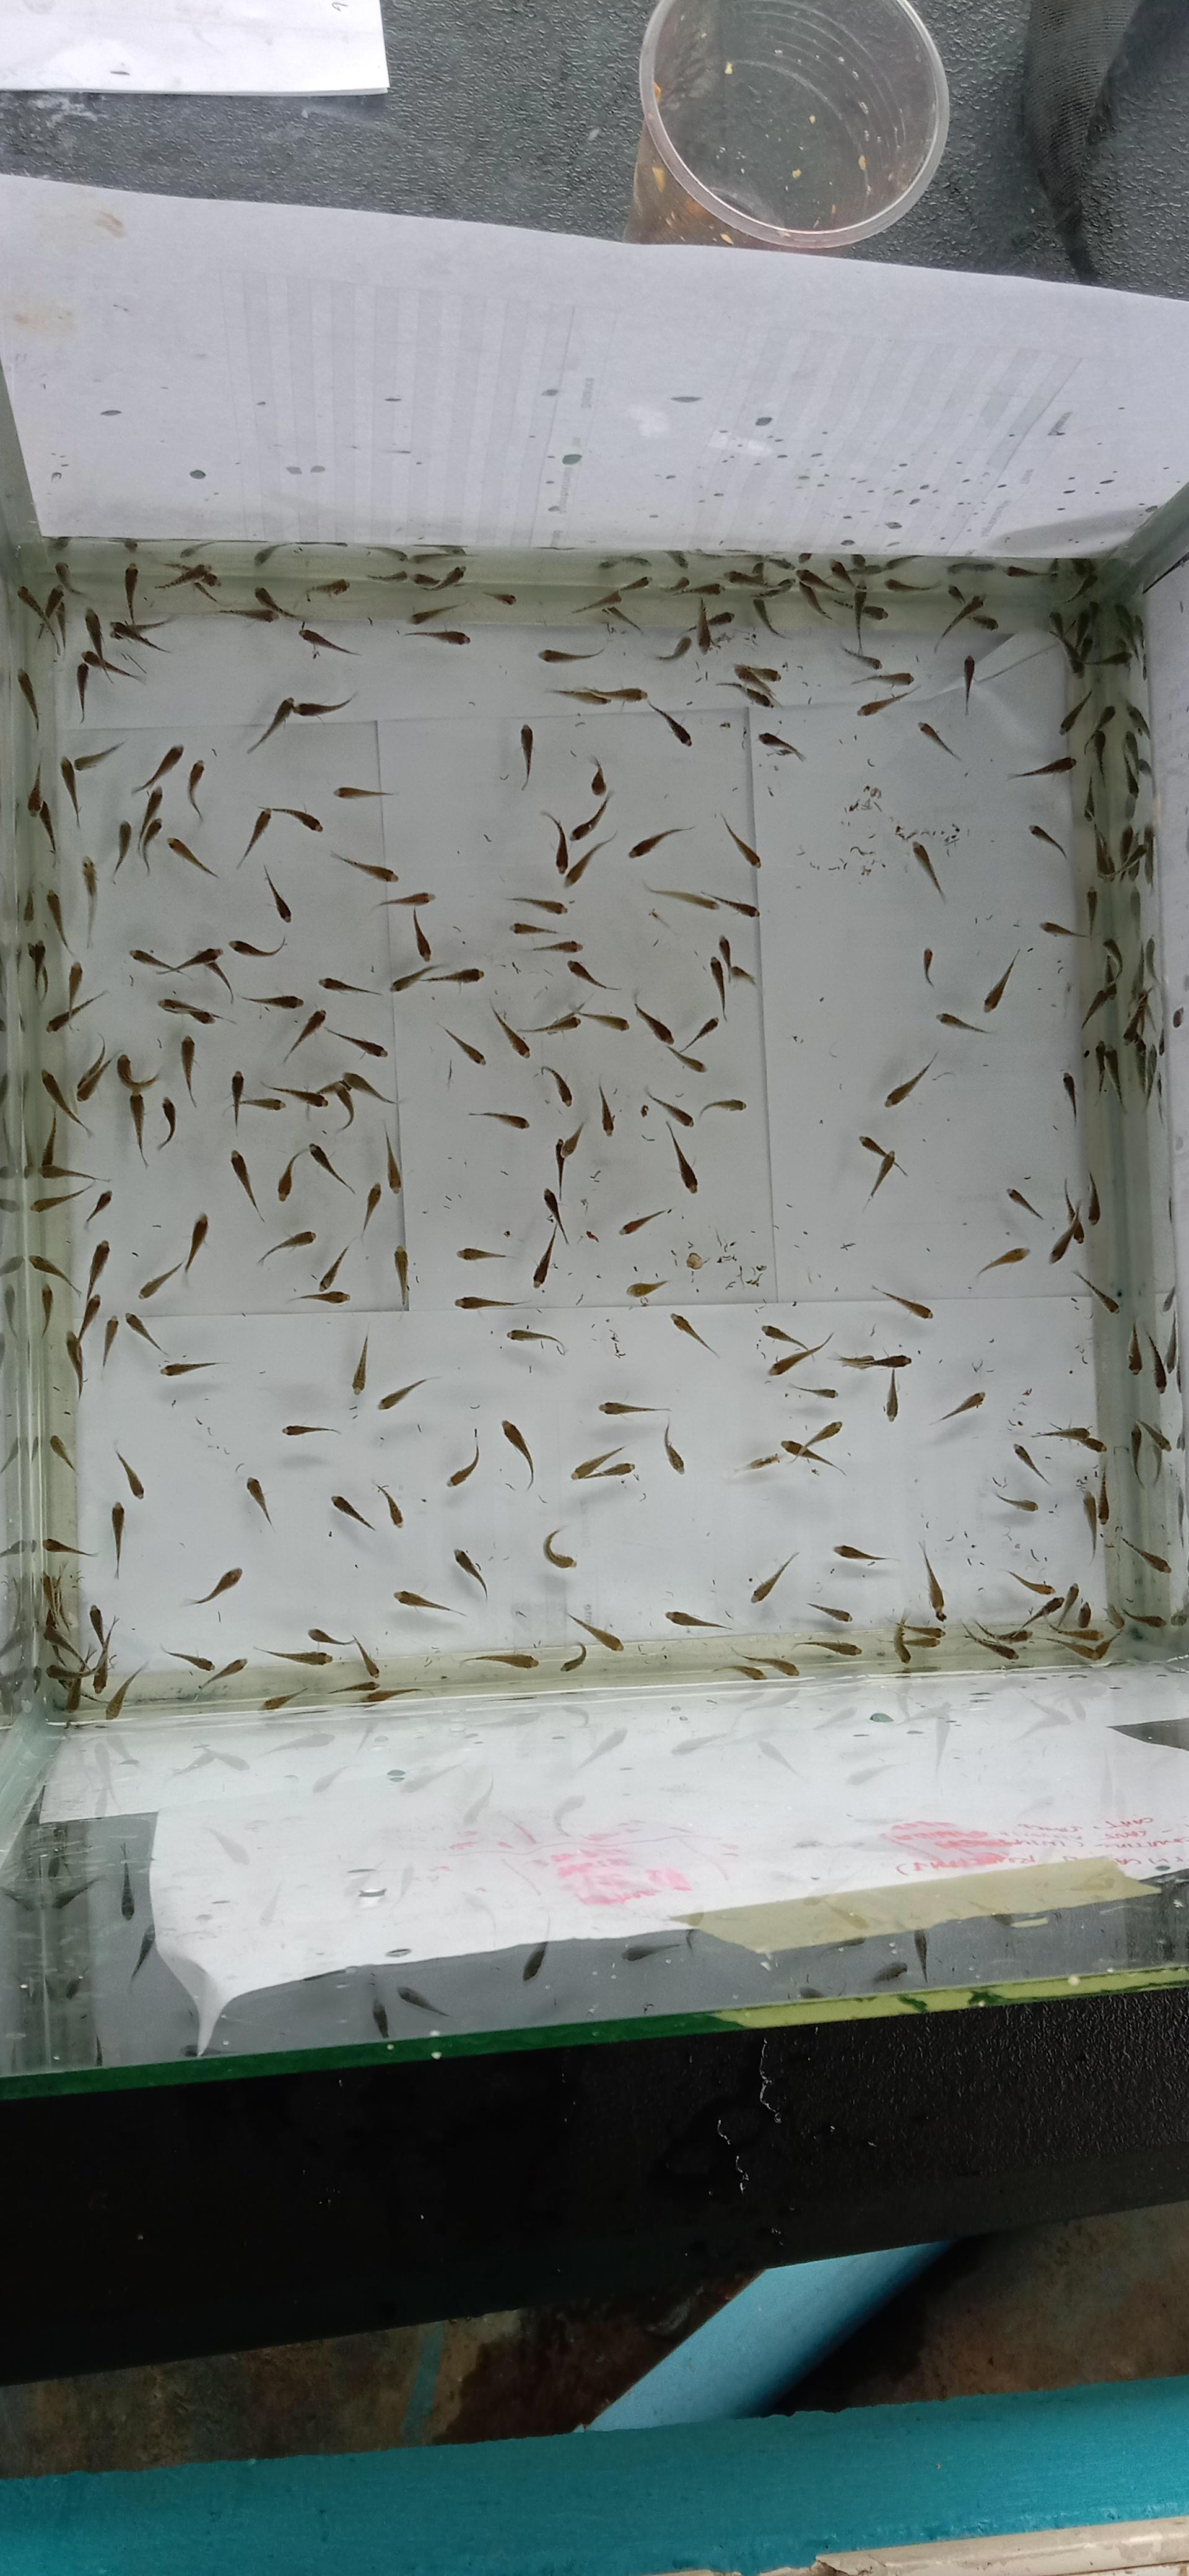fingerling: (128, 743, 207, 877), (264, 1069, 396, 1132), (74, 609, 145, 723), (43, 1603, 117, 1709), (539, 792, 614, 887), (961, 1594, 1064, 1663), (246, 692, 356, 754), (796, 565, 888, 639), (138, 1212, 210, 1299), (598, 1401, 685, 1474), (663, 554, 795, 600), (493, 971, 588, 1032), (489, 996, 583, 1056), (284, 1009, 388, 1063), (961, 626, 1021, 716), (107, 563, 168, 652), (59, 741, 123, 825), (130, 945, 232, 997), (238, 805, 322, 867), (115, 1053, 161, 1166), (654, 596, 734, 660), (839, 1350, 911, 1421), (1048, 1598, 1123, 1666), (1048, 1170, 1099, 1263), (700, 933, 755, 1017), (276, 1142, 353, 1201), (161, 1646, 246, 1699), (41, 1572, 85, 1672), (892, 820, 946, 899), (460, 1641, 586, 1674), (1081, 936, 1123, 1030), (38, 1112, 95, 1181), (376, 889, 434, 958), (934, 586, 994, 652), (307, 1626, 381, 1677), (66, 1291, 102, 1393), (764, 1326, 833, 1378), (39, 1068, 92, 1137), (292, 1242, 351, 1303), (532, 1188, 568, 1286), (15, 583, 67, 651), (780, 1419, 844, 1474), (570, 573, 650, 616), (839, 642, 913, 687), (1046, 605, 1090, 677), (38, 1281, 69, 1382), (534, 1002, 627, 1035), (79, 1240, 110, 1336), (1076, 1467, 1109, 1557), (565, 831, 619, 885), (884, 1053, 936, 1109), (230, 1069, 282, 1125), (857, 1134, 902, 1198), (246, 697, 296, 754), (154, 559, 220, 601), (131, 743, 184, 793), (668, 1015, 718, 1069), (496, 721, 535, 789), (959, 1618, 1018, 1663), (749, 1552, 798, 1605), (136, 787, 166, 874), (565, 1610, 624, 1653), (48, 989, 107, 1032), (87, 1605, 115, 1695), (509, 918, 581, 953), (282, 1007, 327, 1063), (103, 1664, 148, 1720), (499, 1419, 534, 1490), (182, 946, 232, 996), (368, 539, 466, 563), (668, 1311, 719, 1359), (982, 948, 1020, 1012), (26, 775, 57, 853), (1048, 1194, 1082, 1263), (230, 1148, 263, 1221), (627, 825, 695, 859), (726, 557, 793, 591), (1048, 1628, 1112, 1664), (307, 1143, 355, 1191), (186, 1566, 243, 1605), (1071, 1268, 1120, 1314), (1003, 557, 1095, 582), (870, 1285, 933, 1321), (1066, 1168, 1102, 1230), (718, 813, 760, 866), (553, 1120, 586, 1188), (550, 683, 645, 706), (893, 1618, 943, 1663), (489, 1004, 530, 1056), (539, 810, 572, 876), (570, 1444, 629, 1480), (256, 1229, 315, 1265), (1033, 1424, 1105, 1454), (159, 996, 232, 1025), (732, 664, 782, 706), (667, 1125, 698, 1193), (76, 1040, 110, 1101), (166, 836, 217, 877), (632, 991, 673, 1042), (1092, 1040, 1123, 1106), (910, 839, 944, 899), (108, 618, 168, 652), (885, 557, 944, 591), (238, 808, 273, 867), (1017, 1594, 1066, 1635), (393, 1589, 465, 1617), (716, 935, 755, 986), (330, 853, 397, 882), (452, 1548, 489, 1600), (645, 882, 716, 910), (920, 1544, 946, 1618), (197, 1658, 246, 1697), (28, 1253, 77, 1293), (84, 649, 143, 682), (829, 554, 888, 586), (447, 1431, 481, 1487), (728, 1638, 796, 1666), (1081, 979, 1118, 1030), (325, 1027, 386, 1058), (846, 590, 887, 636), (570, 792, 609, 839), (184, 1212, 210, 1283), (253, 585, 304, 621), (338, 1071, 394, 1104), (123, 1311, 166, 1354), (650, 701, 691, 746), (54, 560, 99, 601), (378, 1377, 430, 1411), (440, 1025, 486, 1065), (115, 1051, 161, 1091), (760, 1324, 829, 1350), (796, 573, 834, 621), (506, 1326, 567, 1355), (716, 678, 777, 708), (301, 626, 358, 657), (644, 1091, 693, 1127), (1008, 754, 1076, 780), (43, 889, 72, 948), (266, 1081, 328, 1109), (976, 1245, 1028, 1278), (731, 1654, 796, 1681), (1058, 687, 1094, 734), (330, 1493, 374, 1531), (567, 958, 617, 991), (80, 856, 99, 948), (461, 1651, 539, 1672), (113, 1446, 145, 1498), (276, 1147, 307, 1199), (322, 1081, 355, 1130), (948, 586, 987, 628), (1012, 1442, 1049, 1485), (126, 1091, 148, 1166), (857, 690, 915, 718), (138, 1263, 182, 1299), (43, 586, 67, 651), (41, 1574, 66, 1638), (371, 1480, 404, 1528), (542, 1188, 570, 1244), (1005, 1569, 1058, 1598), (916, 720, 957, 757), (259, 1646, 332, 1667), (74, 741, 123, 772), (294, 692, 356, 716), (542, 1526, 576, 1571), (317, 1242, 351, 1286), (700, 606, 734, 651), (264, 867, 292, 922), (893, 820, 959, 843), (796, 1447, 847, 1477), (938, 1390, 985, 1421), (381, 1122, 402, 1191), (1048, 958, 1074, 1014), (31, 1189, 90, 1214), (391, 961, 440, 991), (793, 1638, 861, 1659), (59, 756, 80, 823), (1028, 823, 1067, 859), (179, 1035, 199, 1107), (839, 1350, 911, 1370), (537, 1065, 573, 1104), (164, 1387, 215, 1414), (194, 1414, 228, 1456), (108, 1502, 126, 1579), (161, 1648, 213, 1674), (621, 1207, 670, 1235), (532, 1230, 557, 1286), (757, 729, 803, 759), (751, 596, 783, 637), (532, 1007, 583, 1033), (85, 1240, 110, 1295), (128, 948, 182, 973), (186, 757, 207, 820), (506, 895, 568, 917), (665, 1610, 728, 1631), (245, 1477, 273, 1525), (831, 1543, 888, 1566), (230, 935, 287, 958), (680, 1017, 718, 1051), (317, 976, 383, 996), (603, 601, 642, 634), (1079, 1492, 1099, 1557), (273, 807, 322, 833), (1056, 1584, 1084, 1630), (205, 953, 233, 999), (401, 628, 471, 646), (374, 1419, 425, 1444), (936, 1012, 990, 1035), (360, 1181, 383, 1235), (1005, 1188, 1043, 1221), (851, 841, 884, 879), (376, 889, 434, 910), (598, 1400, 665, 1418), (236, 992, 304, 1010), (236, 1096, 282, 1122), (468, 1109, 529, 1129), (424, 966, 484, 986), (708, 956, 728, 1017), (66, 1331, 85, 1391), (18, 669, 38, 729), (839, 642, 882, 670), (353, 1638, 381, 1681), (846, 784, 884, 815), (259, 1687, 307, 1712), (578, 1009, 629, 1032), (350, 1336, 370, 1395), (84, 1189, 113, 1229), (112, 820, 131, 879), (48, 1433, 77, 1472), (365, 1686, 424, 1705), (539, 646, 603, 664), (662, 1424, 685, 1474), (990, 1490, 1036, 1515), (885, 573, 943, 593), (713, 892, 759, 917), (43, 1538, 95, 1559), (84, 609, 105, 662), (59, 1671, 85, 1713), (77, 1293, 102, 1337), (411, 603, 461, 624), (519, 723, 535, 789), (691, 598, 711, 652), (192, 568, 222, 605), (28, 941, 48, 996), (736, 662, 782, 685), (624, 1276, 667, 1301), (696, 1097, 746, 1119), (159, 1359, 217, 1377), (550, 687, 608, 705), (407, 542, 465, 560), (667, 1045, 706, 1071), (596, 554, 649, 573), (305, 577, 350, 600), (762, 1322, 806, 1345), (1094, 831, 1115, 879), (393, 1247, 411, 1303), (412, 910, 432, 961), (100, 1316, 120, 1367), (728, 1456, 778, 1475), (959, 654, 976, 715), (253, 540, 291, 567), (1100, 936, 1123, 979), (158, 1096, 176, 1150), (1035, 1424, 1089, 1442), (335, 784, 394, 800), (215, 606, 274, 623), (307, 1626, 356, 1646), (726, 563, 765, 588), (795, 853, 844, 872), (828, 559, 856, 593), (647, 905, 675, 940), (1100, 1602, 1128, 1636), (598, 1083, 616, 1135), (1040, 918, 1084, 940), (806, 1602, 851, 1623), (455, 1295, 519, 1309), (122, 563, 138, 621), (654, 636, 691, 660), (851, 555, 888, 580), (667, 554, 691, 591), (711, 1227, 736, 1265), (1084, 1170, 1100, 1226), (181, 946, 220, 969), (893, 1617, 913, 1663), (76, 662, 90, 723), (457, 1245, 506, 1263), (783, 1383, 838, 1400), (230, 1069, 246, 1124), (530, 938, 580, 956), (806, 1421, 842, 1446), (1094, 1469, 1110, 1523), (291, 1288, 350, 1303), (417, 1648, 447, 1677), (558, 1641, 586, 1672), (176, 540, 213, 563), (857, 1134, 890, 1160), (511, 918, 558, 936), (867, 670, 915, 688), (328, 1682, 376, 1700), (282, 1423, 340, 1437), (884, 1370, 900, 1421), (38, 1285, 54, 1336), (737, 1260, 767, 1288), (435, 563, 466, 590), (946, 559, 995, 575), (755, 577, 793, 598), (721, 1663, 765, 1681), (54, 560, 77, 595), (1061, 1071, 1077, 1119), (728, 961, 757, 987), (366, 545, 409, 563), (939, 821, 962, 854), (26, 777, 44, 818), (67, 961, 84, 1005), (1003, 563, 1053, 578), (603, 687, 647, 703), (588, 757, 608, 793), (1082, 885, 1097, 933), (1072, 1597, 1094, 1630), (617, 573, 650, 595), (598, 1460, 636, 1479), (89, 1605, 105, 1646), (851, 588, 867, 629), (80, 856, 97, 895), (688, 580, 723, 598), (663, 573, 691, 595), (368, 568, 407, 583), (921, 946, 936, 986), (411, 570, 440, 590), (603, 605, 622, 634), (859, 603, 887, 623), (746, 1454, 778, 1470), (780, 1441, 810, 1459), (484, 590, 516, 606), (716, 935, 732, 966), (708, 609, 736, 628), (971, 613, 998, 631), (1072, 1470, 1095, 1492), (608, 1331, 624, 1359), (442, 629, 471, 644), (685, 1250, 705, 1272), (443, 1056, 457, 1088), (893, 820, 911, 839), (668, 550, 690, 567), (946, 583, 964, 601), (581, 1227, 599, 1242)
